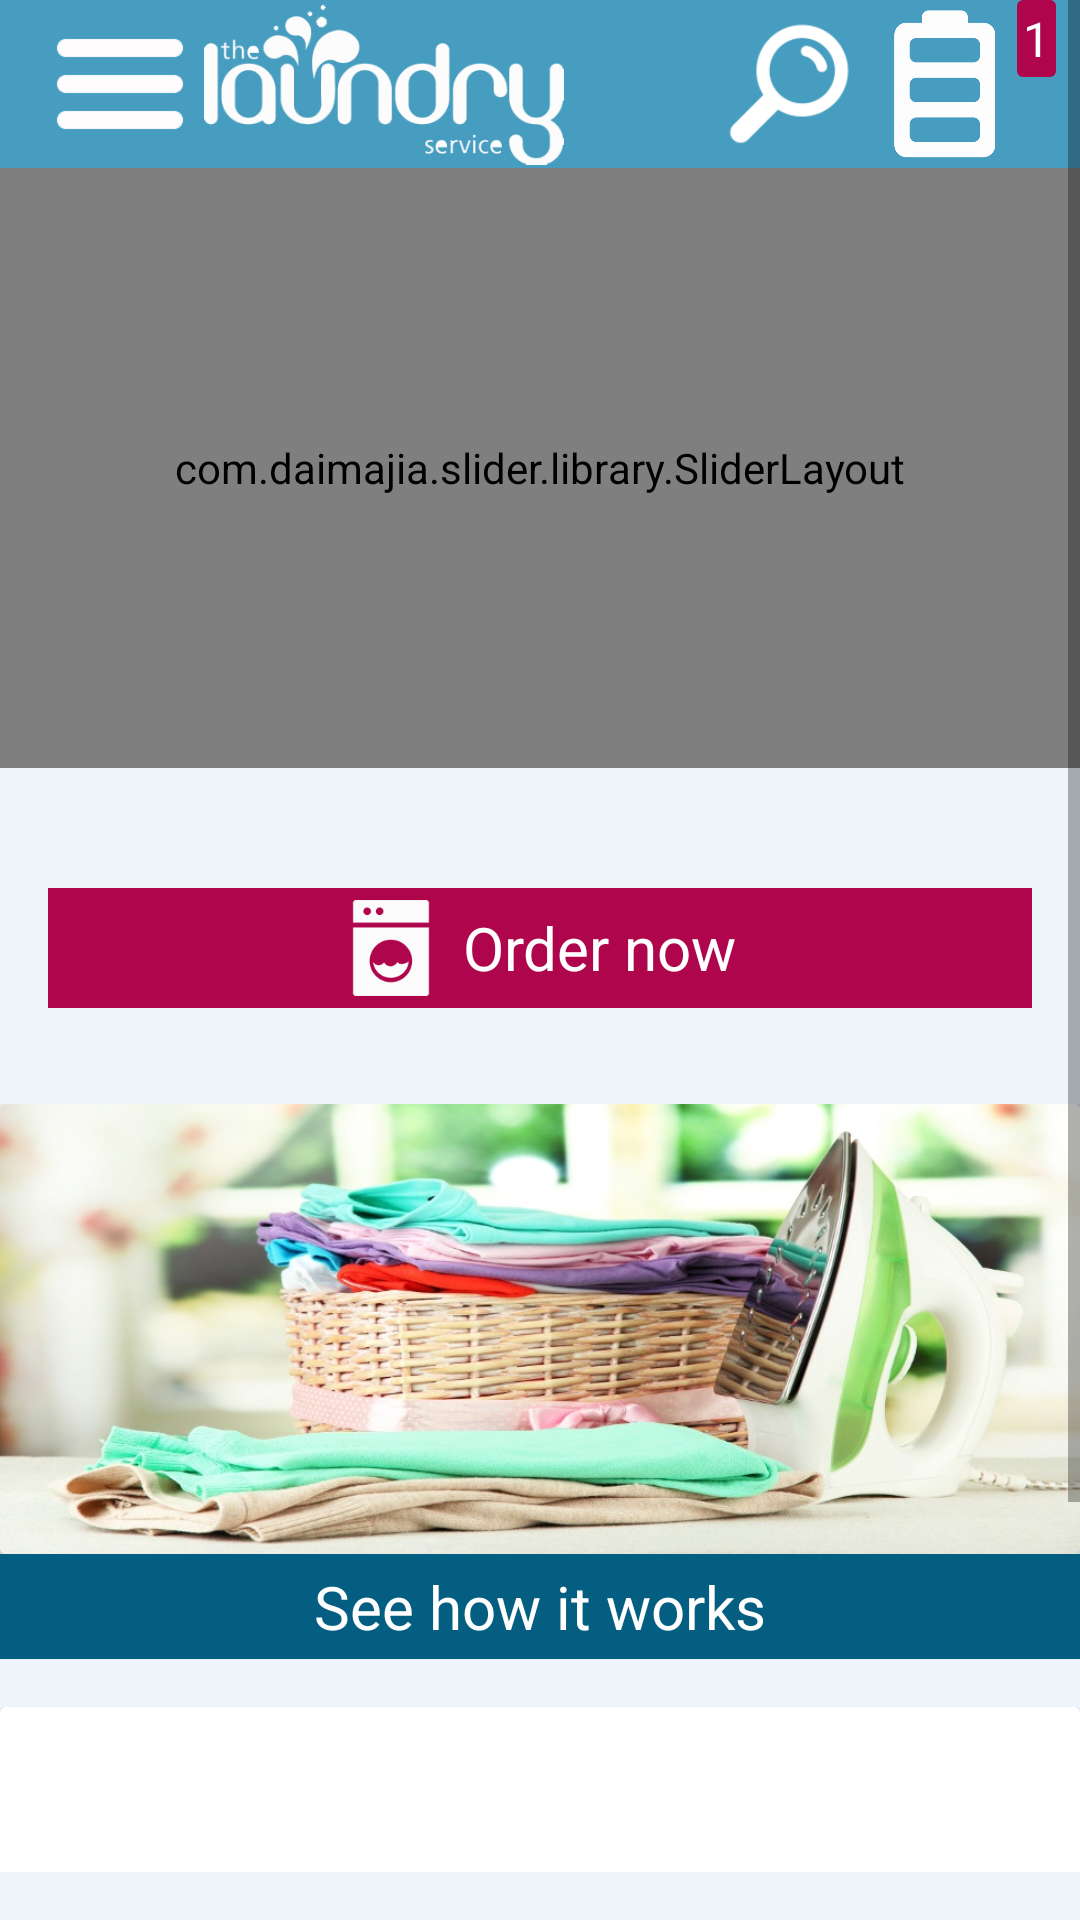

Screen size 1080px×1920px. Icon name, then its box in pixels as (x1, y1, x2, y2):
menu: (57, 39, 183, 129)
search: (730, 24, 849, 143)
washer: (352, 900, 430, 996)
